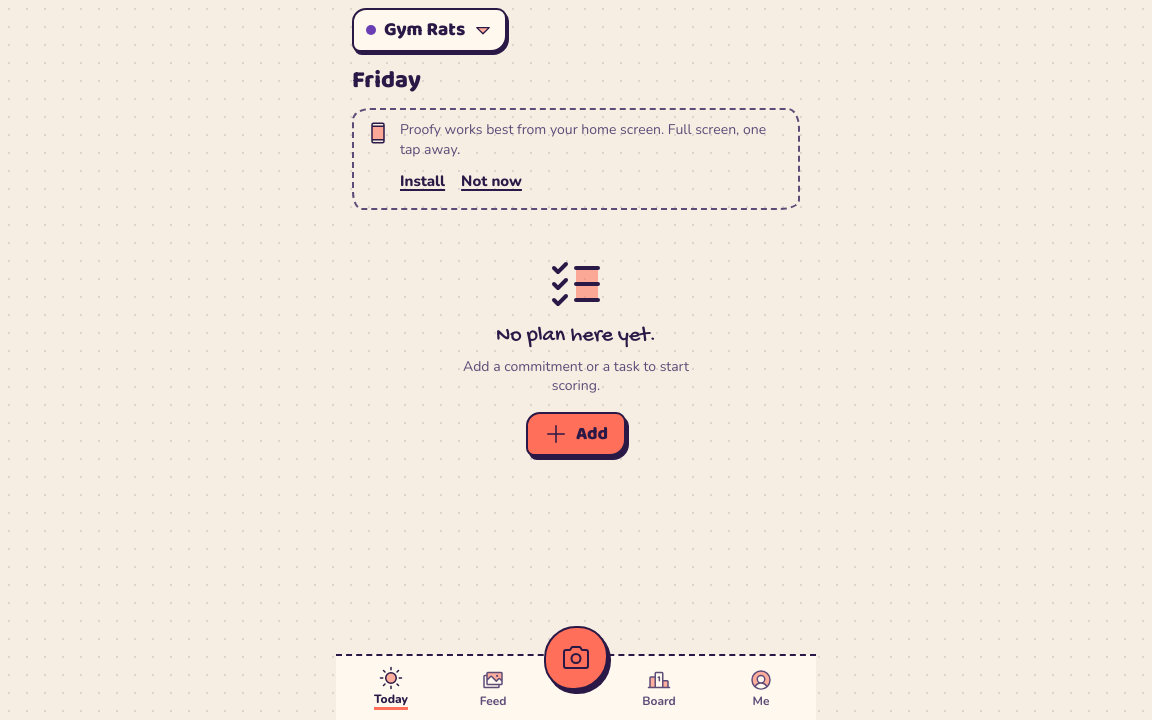
Scenario: Plan sheet (add a commitment) › schedule_type_locked from the server: the lock note under Schedule and a refetch
Click the button with aria-label "Add a commitment or task" at coordinates (576, 434), box [526, 412, 626, 456]
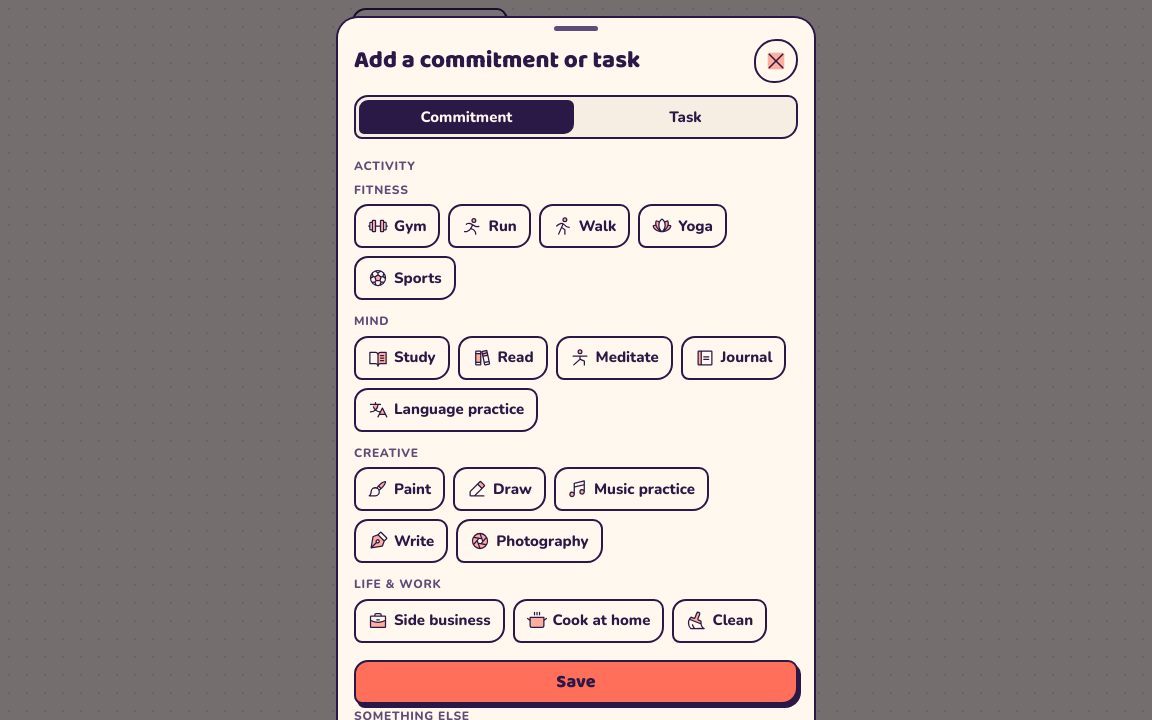
Result: the radio button labelled "Run" is shown at [448, 204, 531, 248]
Click the radio button labelled "Gym" at coordinates (397, 226), box [354, 204, 440, 248]
(page scrolled)
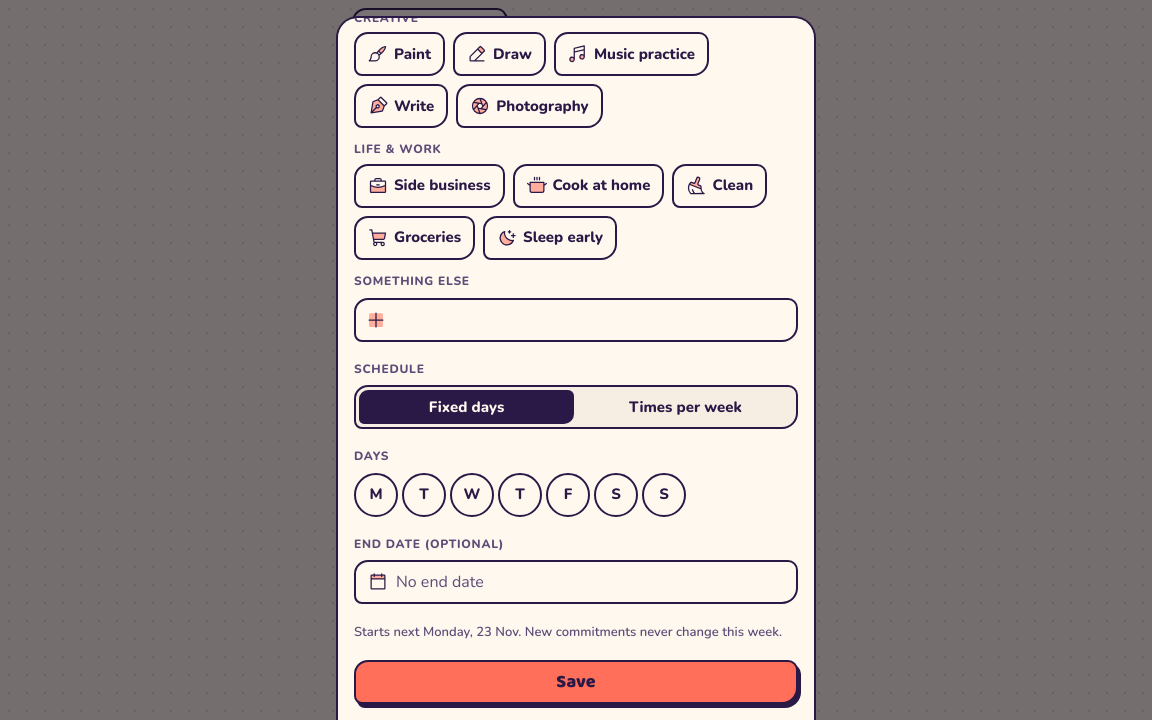
Click the button named "Tuesday" at coordinates (424, 495), box [402, 473, 446, 517]
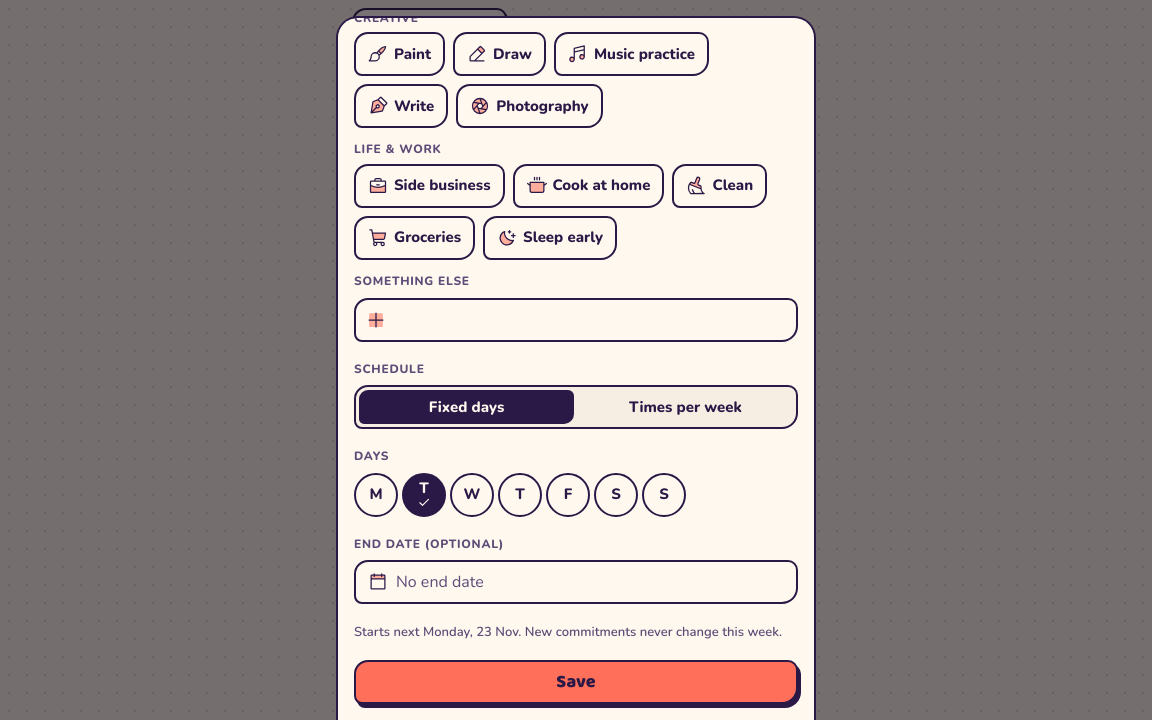
Click the button "Save" at coordinates (576, 682), box [354, 660, 798, 704]
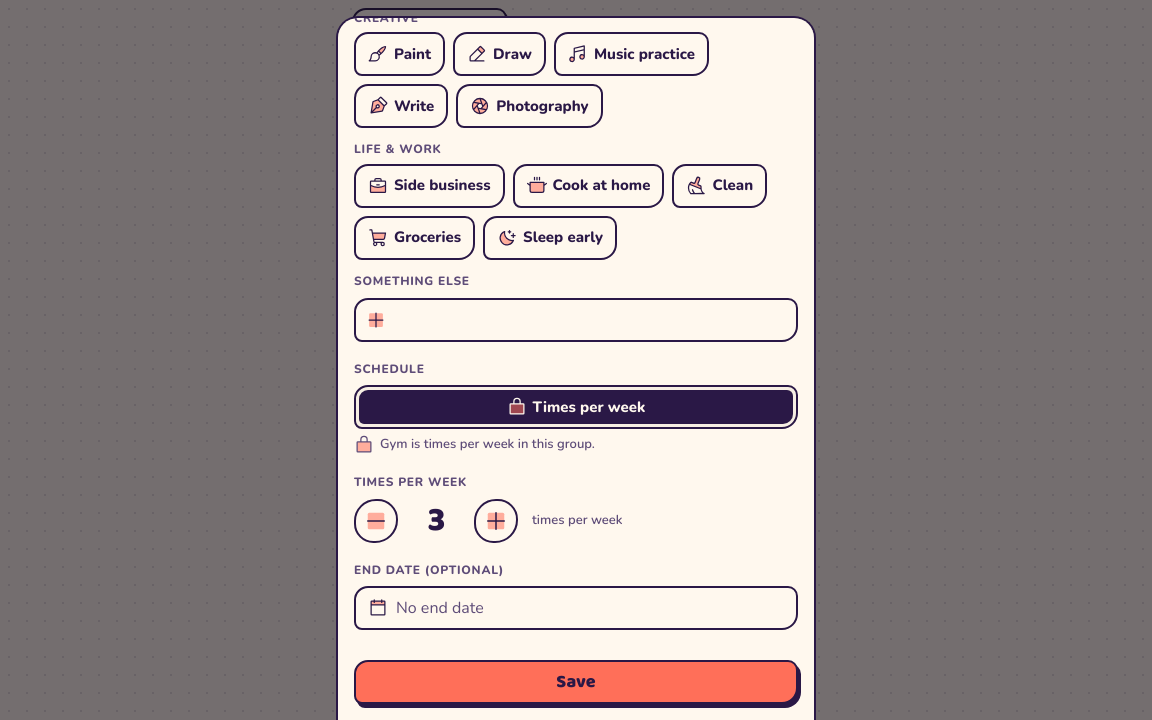
Result: the dialog is shown at [336, 16, 816, 719]
Result: the message reads "Gym is times per week in this group." at [380, 435, 595, 453]
